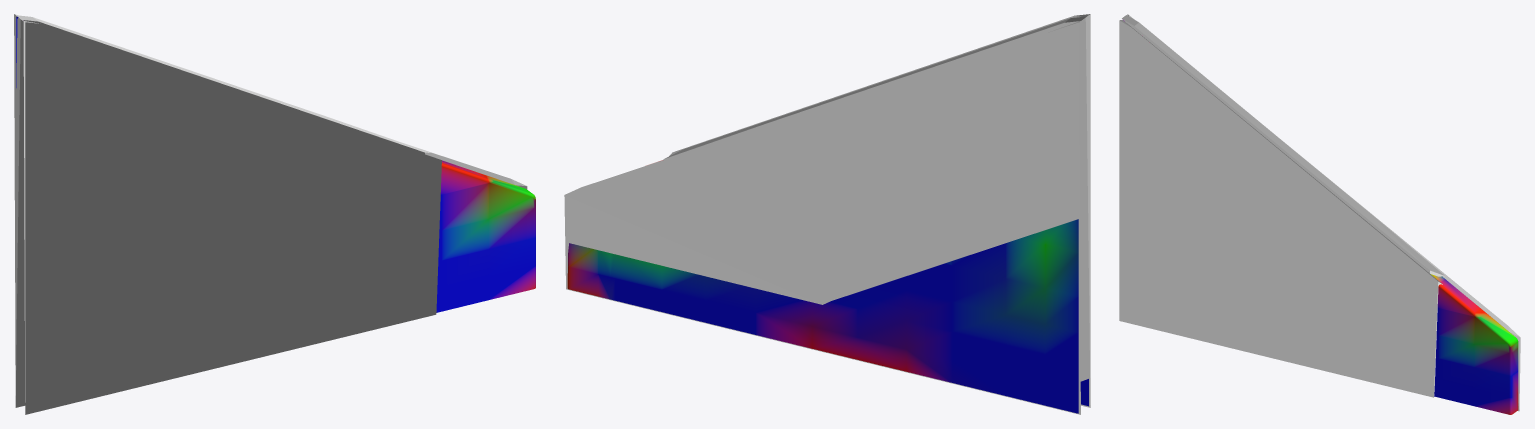
3 views of the same model, side by side, from view 1: azimuth 30°, elevation 25°; view 2: azimuth 150°, elevation 25°; view 3: azimuth 330°, elevation 25° (orthographic). The views are drawn at different scales.
Visible parts, largest first — view 1: SM_Platform_Railing_01_ConvexHulls, SM_Platform_Railing_01_LOD0; view 2: SM_Platform_Railing_01_ConvexHulls, SM_Platform_Railing_01_LOD0; view 3: SM_Platform_Railing_01_ConvexHulls, SM_Platform_Railing_01_LOD0.
Part boxes in pixels (x1,y1,x2,y2): SM_Platform_Railing_01_ConvexHulls: (14, 14, 527, 414); SM_Platform_Railing_01_LOD0: (16, 16, 535, 312); SM_Platform_Railing_01_ConvexHulls: (564, 14, 1090, 414); SM_Platform_Railing_01_LOD0: (567, 160, 1088, 413); SM_Platform_Railing_01_ConvexHulls: (1119, 14, 1520, 411); SM_Platform_Railing_01_LOD0: (1123, 20, 1518, 414).
Bounding box in the file's own units: 732 × 27.57 × 536.
